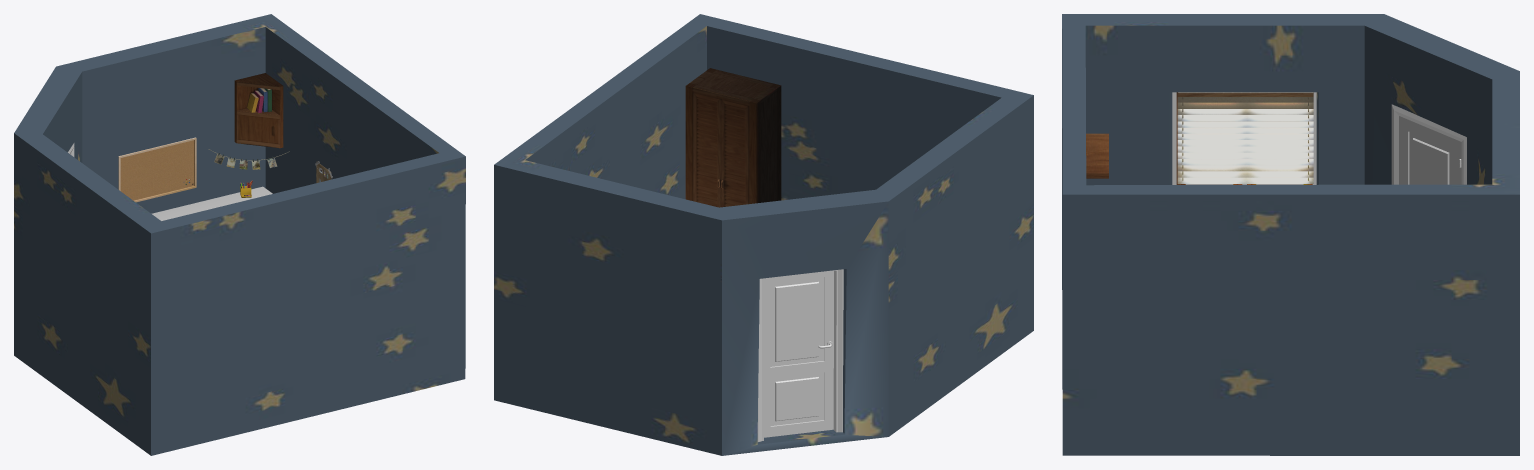
File: Room1.fbx
3 renders of one model, left to right at view 1: azimuth 30°, elevation 25°; view 2: azimuth 150°, elevation 25°; view 3: azimuth 270°, elevation 25°, orthographic. The views are drawn at different scales.
Parts seen in each view (by area): view 1: wall, Cork board, cupboards, Table, book, photos; view 2: wall, wardrobe, door, doorway; view 3: wall, shutter, door, doorway, shelf.
Boxes of the visible parts, x1,y1,x2,y2 form: wall: (14, 14, 465, 455); Cork board: (118, 137, 196, 202); cupboards: (234, 73, 283, 148); Table: (151, 186, 272, 220); book: (247, 88, 271, 112); photos: (208, 149, 289, 169); wall: (494, 14, 1033, 455); wardrobe: (685, 68, 781, 207); door: (763, 271, 833, 437); doorway: (757, 269, 843, 441); wall: (1062, 14, 1519, 455); shutter: (1177, 92, 1313, 183); door: (1399, 116, 1461, 184); doorway: (1391, 104, 1466, 184); shelf: (1086, 133, 1108, 178).
Size of the model in its own units: 6.29 by 4.25 by 6.74.
